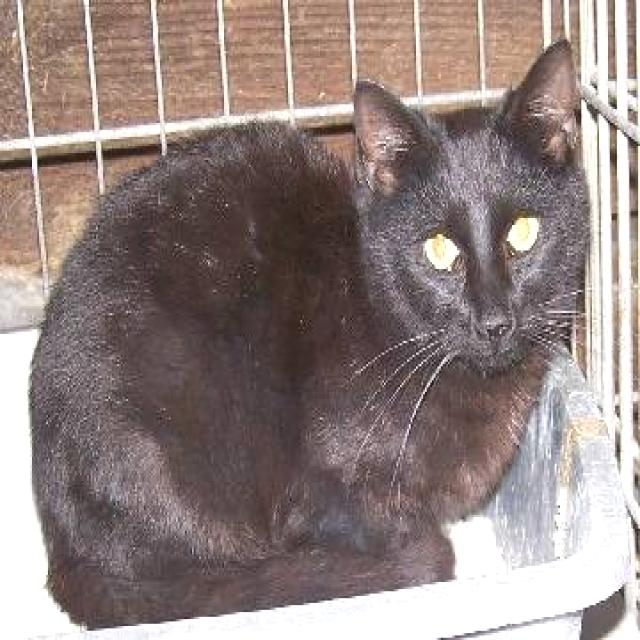Kucing: (13, 18, 616, 640)
